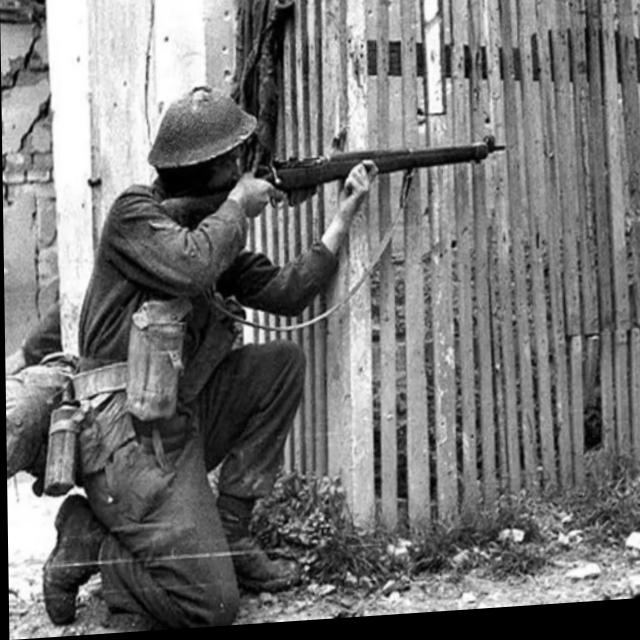other: (46, 86, 378, 637)
